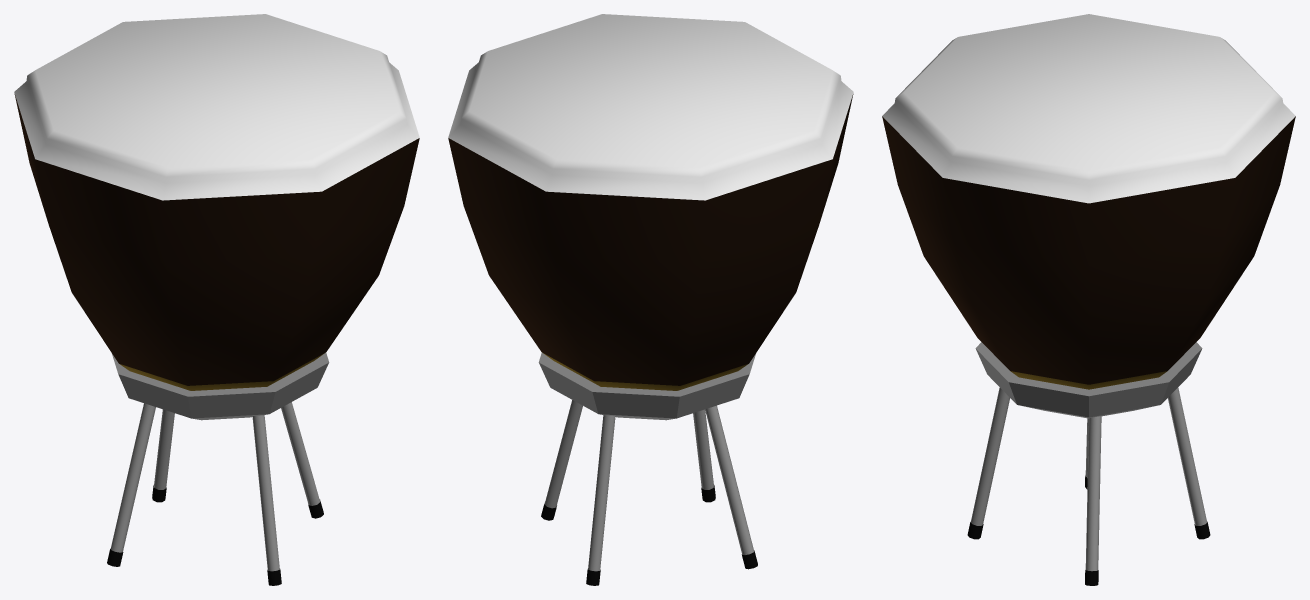
File: Timpani 1.fbx
3 renders of one model, left to right at view 1: azimuth 30°, elevation 25°; view 2: azimuth 150°, elevation 25°; view 3: azimuth 270°, elevation 25°, orthographic.
Visible parts, largest first — view 1: Timpani; view 2: Timpani; view 3: Timpani.
Part boxes in pixels (<box>): Timpani: <box>14,14,419,585</box>; Timpani: <box>448,14,853,585</box>; Timpani: <box>882,14,1295,585</box>.
Bounding box in the file's own units: 158 × 188 × 158.
